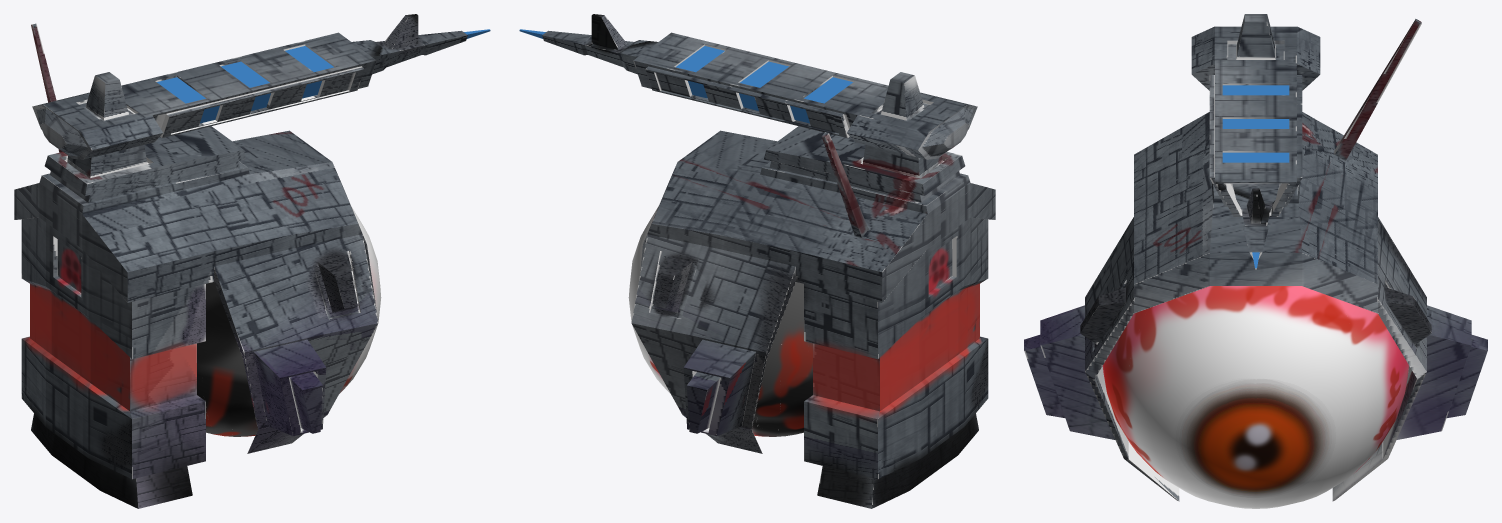
Rendered from eyeMonster.fbx.
3 views of the same model, side by side, from view 1: azimuth 30°, elevation 25°; view 2: azimuth 150°, elevation 25°; view 3: azimuth 270°, elevation 25° (orthographic). The views are drawn at different scales.
Visible parts, largest first — view 1: Cube, Sphere; view 2: Cube, Sphere; view 3: Cube, Sphere.
Part boxes in pixels (x1,y1,x2,y2): Cube: (14,14,490,508); Sphere: (197,206,381,436); Cube: (519,14,995,508); Sphere: (628,206,812,436); Cube: (1024,14,1487,501); Sphere: (1102,286,1409,508).
Bounding box in the file's own units: 352 × 299 × 300.
